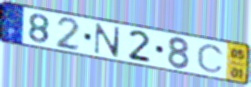2: (55, 17, 83, 53), (127, 30, 154, 65)
8: (167, 36, 192, 71), (28, 12, 51, 44)
C: (196, 43, 225, 74)
N: (93, 22, 122, 59)
